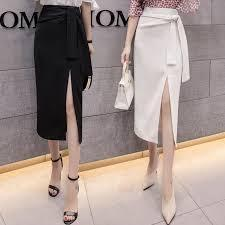skirt: (22, 2, 110, 161), (124, 1, 199, 152)
